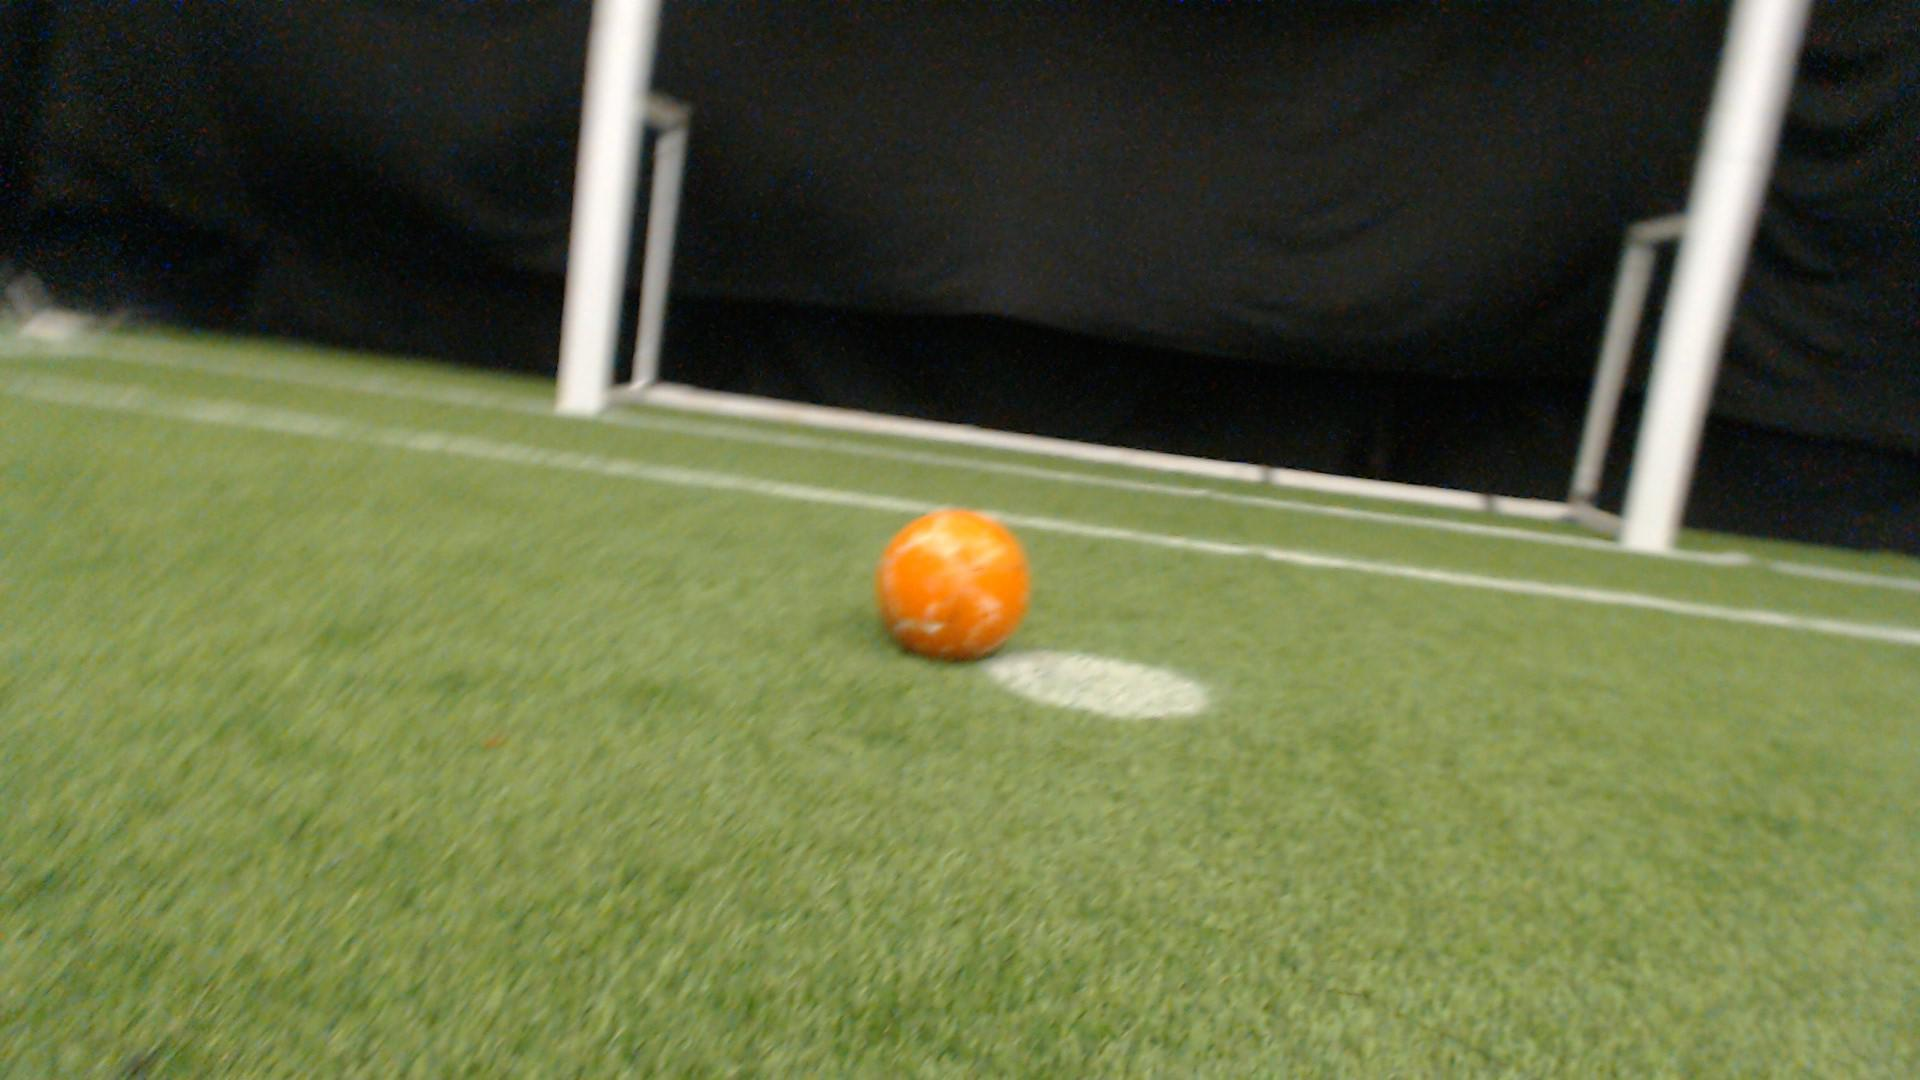bola: (861, 492, 1050, 657)
